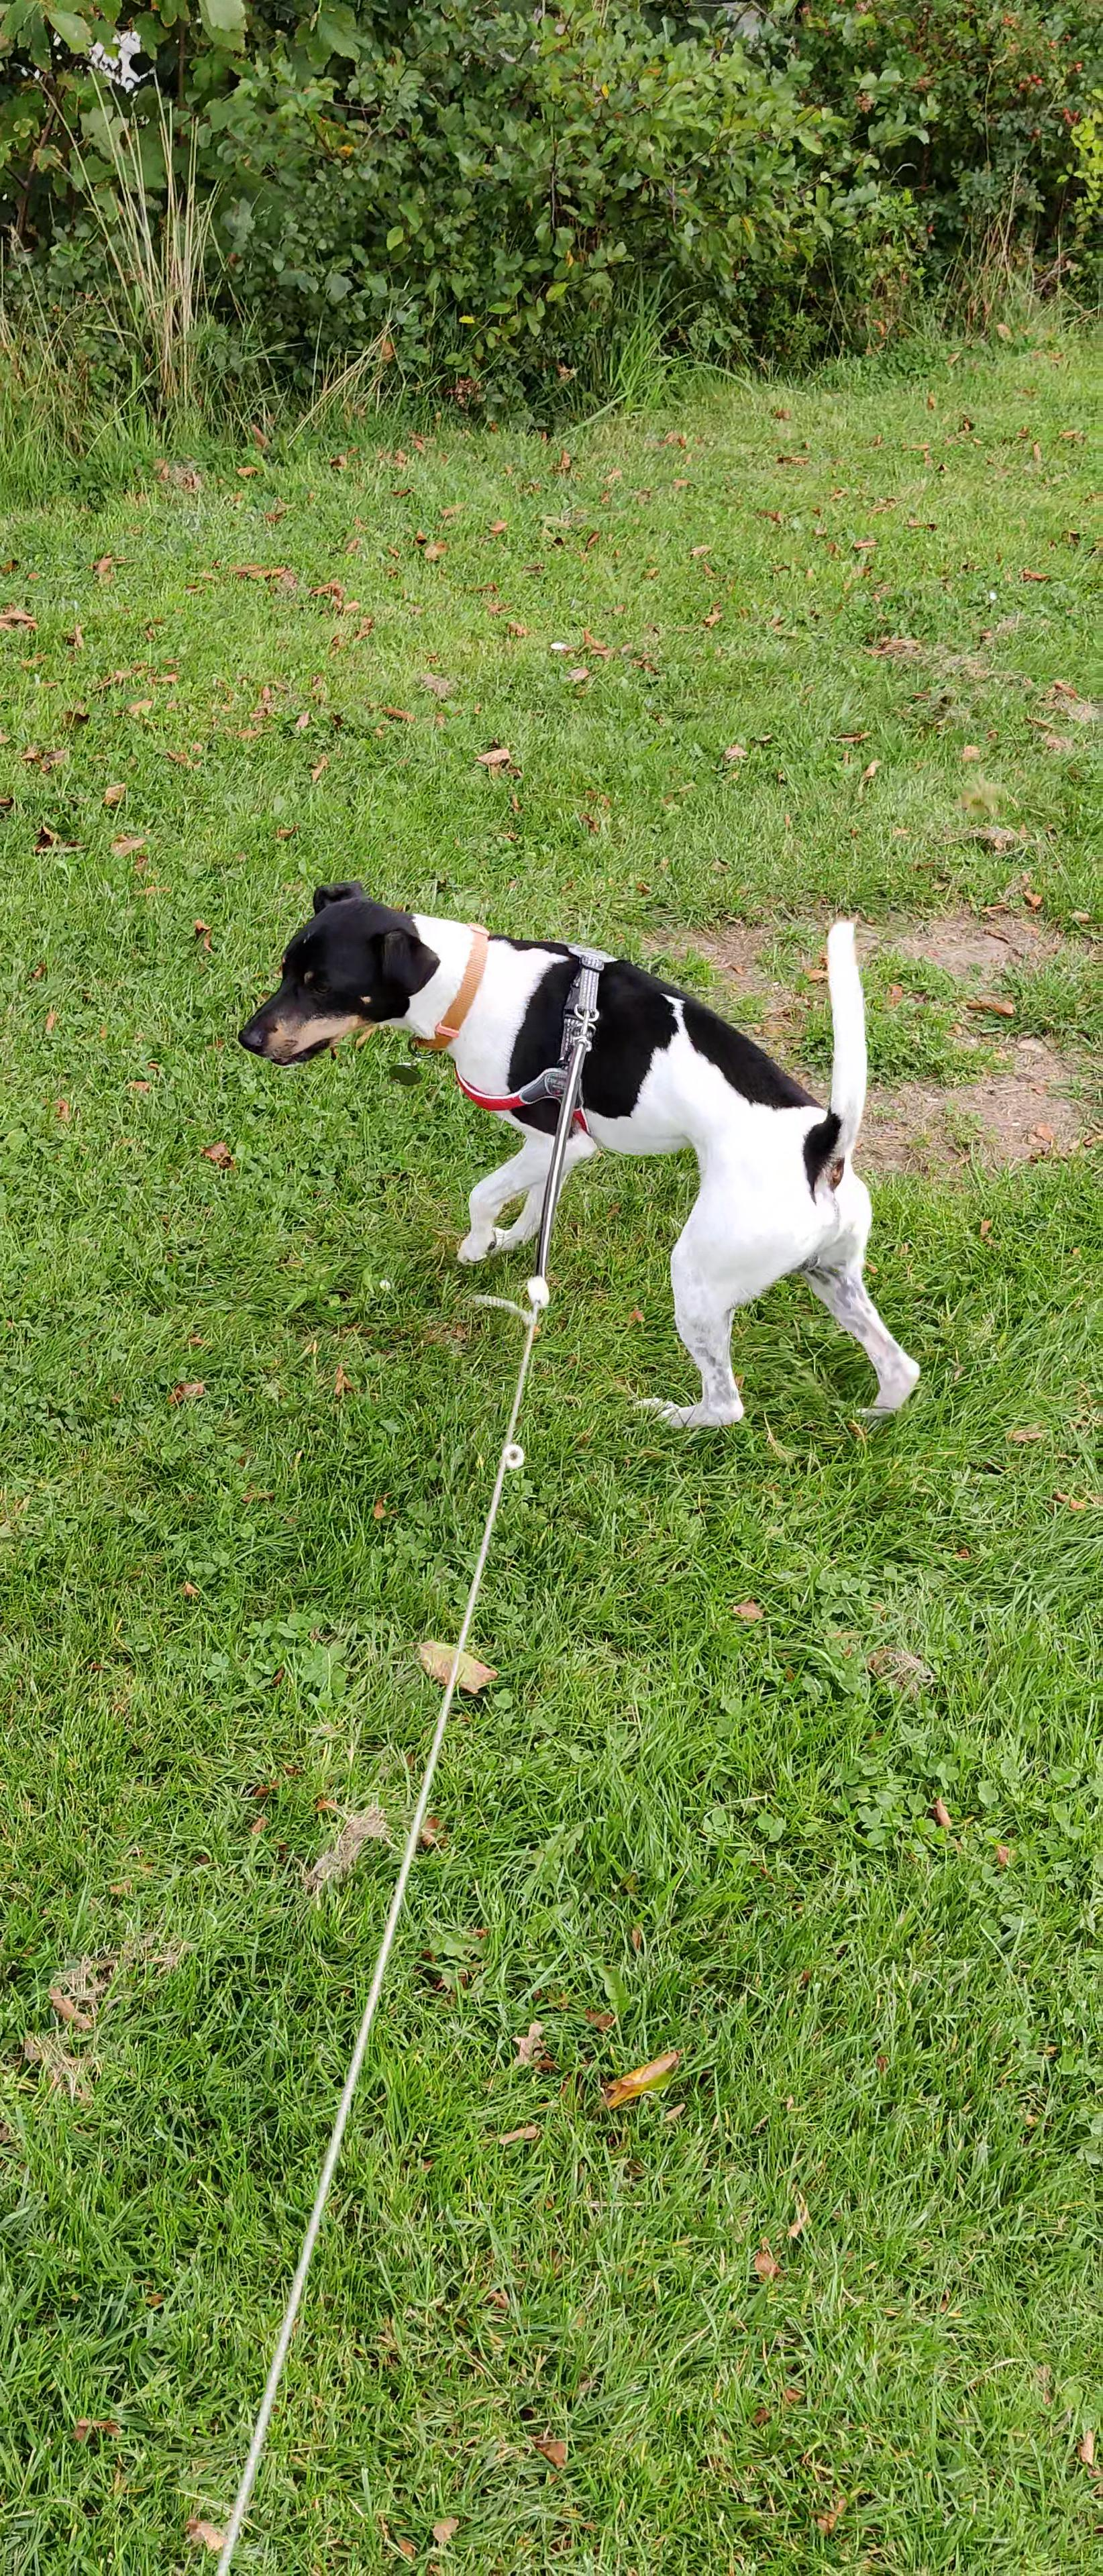Dog: (227, 858, 925, 1429)
